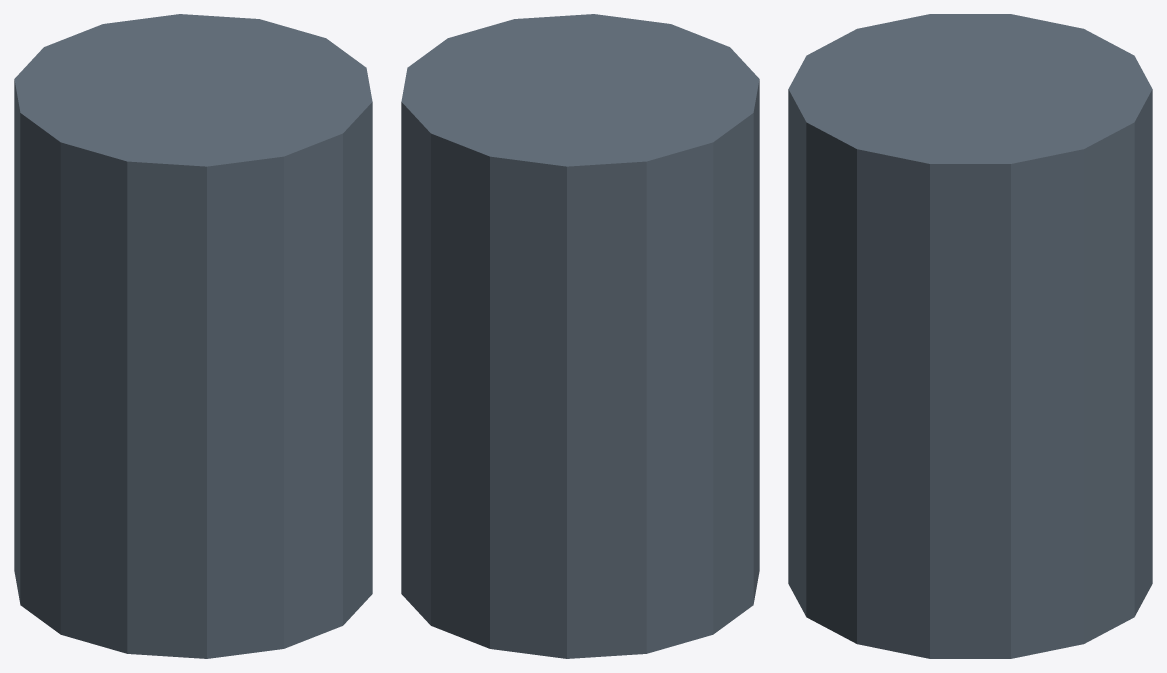
Rendered from Column10.fbx.
3 renders of one model, left to right at view 1: azimuth 30°, elevation 25°; view 2: azimuth 150°, elevation 25°; view 3: azimuth 270°, elevation 25°, orthographic.
Visible parts, largest first — view 1: Column10; view 2: Column10; view 3: Column10.
Part boxes in pixels (x1=…): Column10: x1=14, y1=14, x2=372, y2=658; Column10: x1=401, y1=14, x2=759, y2=658; Column10: x1=788, y1=14, x2=1152, y2=658.
Bounding box in the file's own units: 39 × 60 × 40.
1 material, 1 textured.
